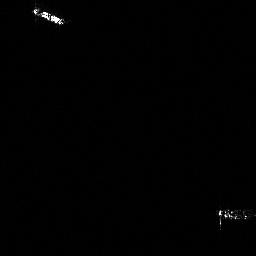ship: (214, 205, 256, 231), (30, 6, 68, 26)
